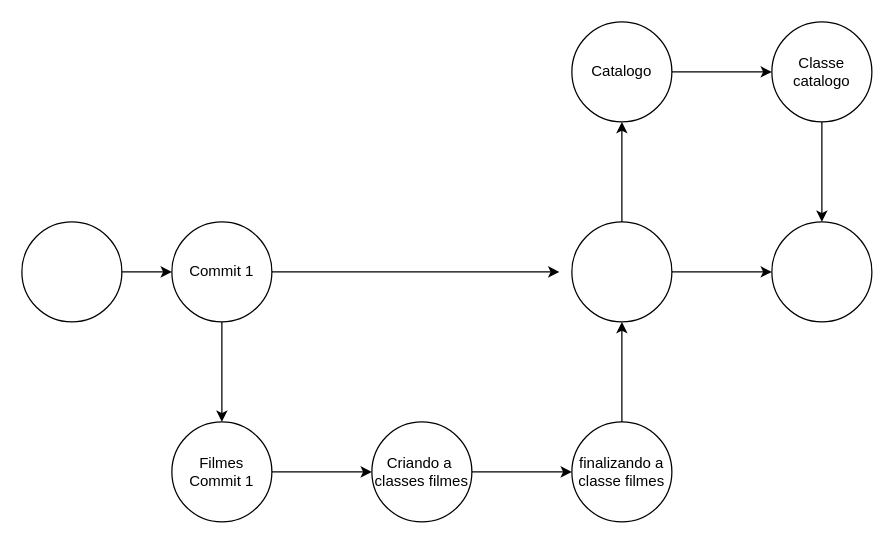
Some shapes in this 894 by 544 pixel diagram are drawn without their labels. Each missing label, with the centre of its shape:
"Main" belongs at point (71, 271).
"Mesclagem catalogo" belongs at point (821, 271).
"Mesclagem filmes" belongs at point (621, 271).
